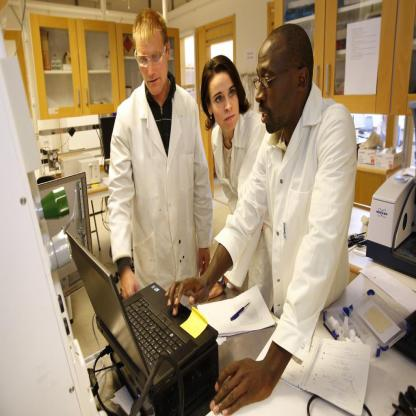board: (62, 226, 218, 396)
